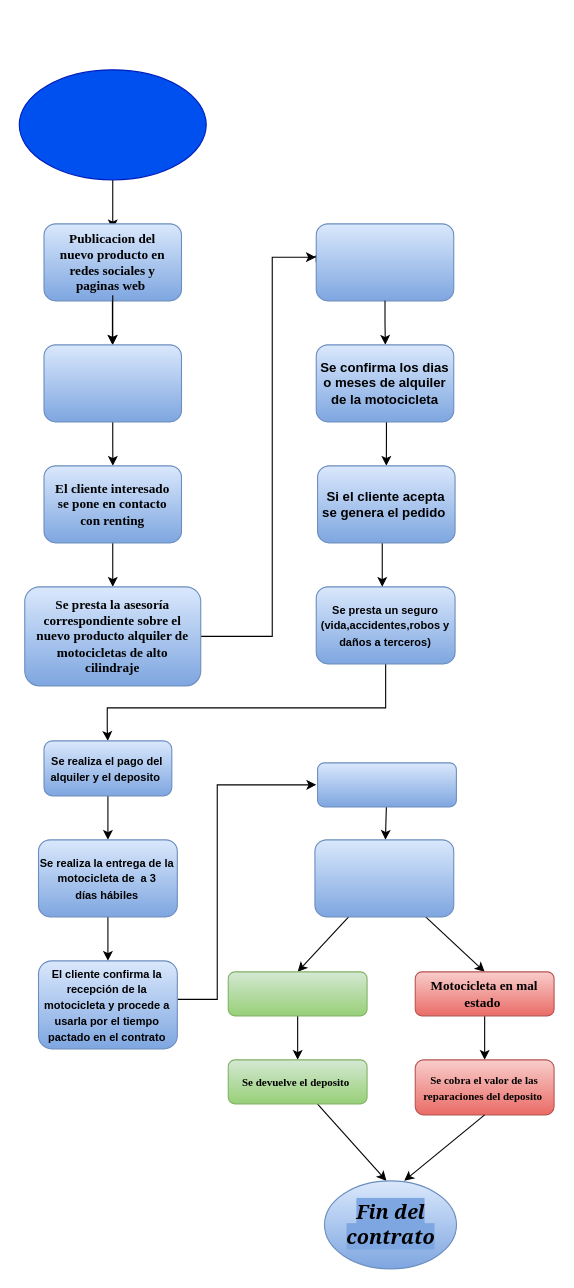
Image size: 574x1288. Some labels were removed from this diagram. Each missing label, with the centre of its shape:
"El cliente visualizara el lanzamiento del nuevo producto" goes at point (112, 383).
"Inicio" goes at point (112, 124).
"Motocicleta en buen estado" goes at point (297, 993).
"Se acaba el contrato" goes at point (386, 784).
"Se le realiza un estudio al cliente (Crediticio y de licencia de conducción)" goes at point (384, 262).
"Se realiza un peritaje de la motocicleta para verificar el estado de la misma" goes at point (384, 878).
